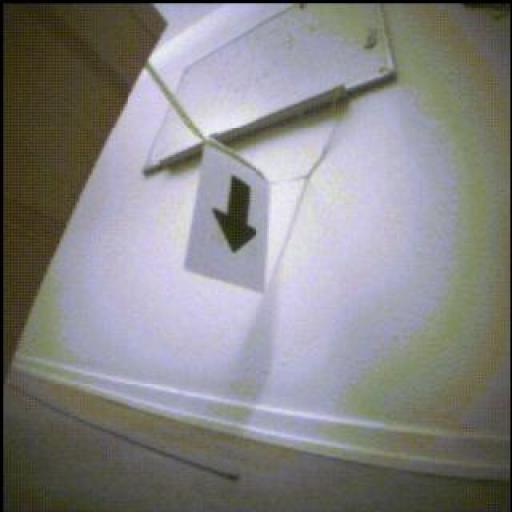arrow: (214, 177, 257, 254)
